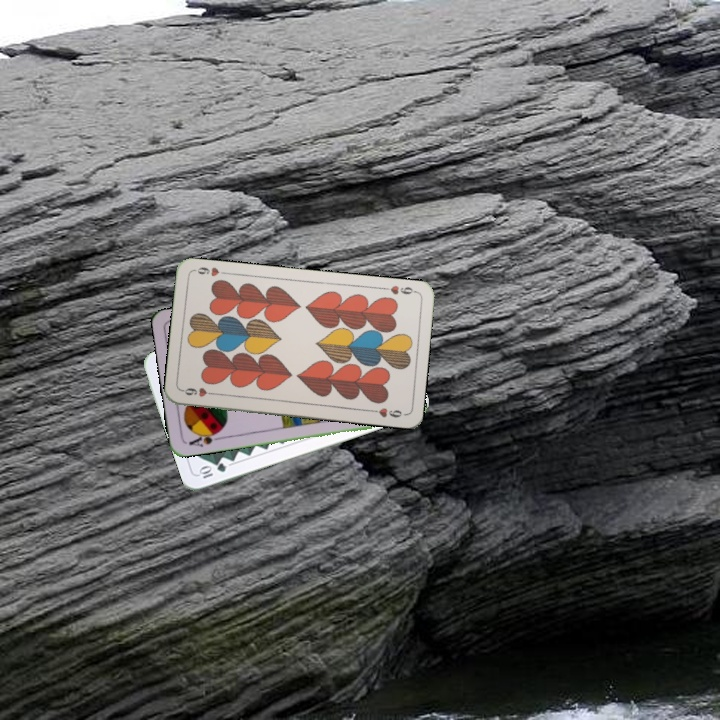G10: (195, 459, 229, 481)
H9: (378, 281, 419, 297), (179, 383, 219, 399)
SA: (185, 427, 224, 449)
